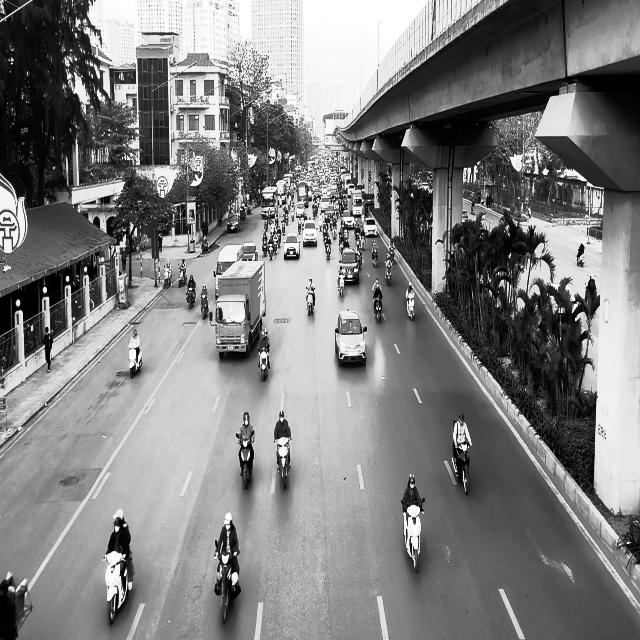car: (334, 309, 368, 366), (340, 248, 360, 284), (283, 232, 300, 259)
motorbike: (102, 548, 134, 625), (214, 540, 241, 624), (401, 497, 425, 572), (236, 431, 254, 489), (453, 442, 471, 495), (274, 438, 291, 490), (128, 343, 143, 378), (258, 347, 270, 381), (373, 292, 382, 323), (406, 292, 415, 321), (306, 286, 315, 315), (384, 257, 392, 286), (337, 268, 345, 296), (186, 286, 195, 309), (200, 294, 208, 319), (164, 267, 172, 288), (576, 252, 585, 267)
truck: (214, 260, 266, 359)
